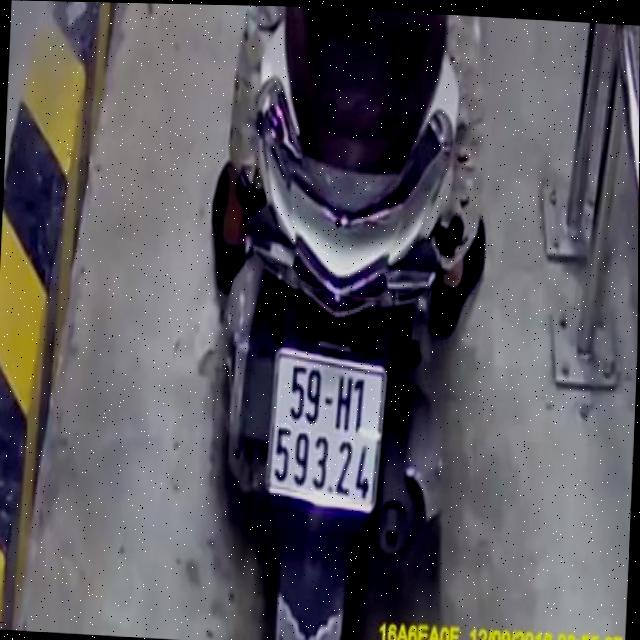motorcycle: (187, 10, 470, 640)
plate: (256, 343, 390, 516)
